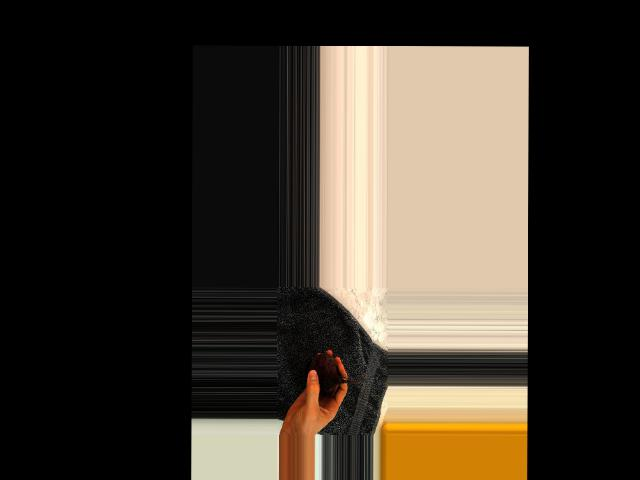beet: (304, 352, 365, 393)
